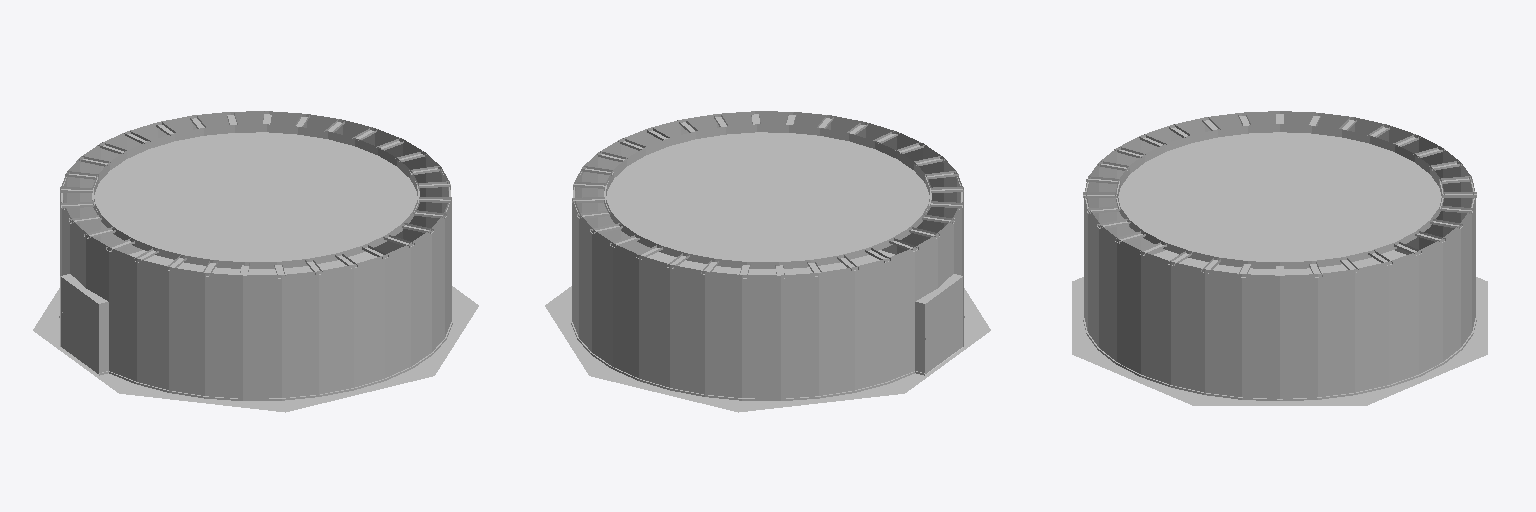
File: showcase.obj
3 views of the same model, side by side, from view 1: azimuth 30°, elevation 25°; view 2: azimuth 150°, elevation 25°; view 3: azimuth 270°, elevation 25° (orthographic).
Visible parts, largest first — view 1: RoomBaked_Baked_0; view 2: RoomBaked_Baked_0; view 3: RoomBaked_Baked_0.
Part boxes in pixels (x1,y1,x2,y2): RoomBaked_Baked_0: (33, 111, 478, 412); RoomBaked_Baked_0: (545, 111, 990, 412); RoomBaked_Baked_0: (1072, 111, 1487, 405).
Size of the model in its own units: 10.62 by 3.5 by 10.62.